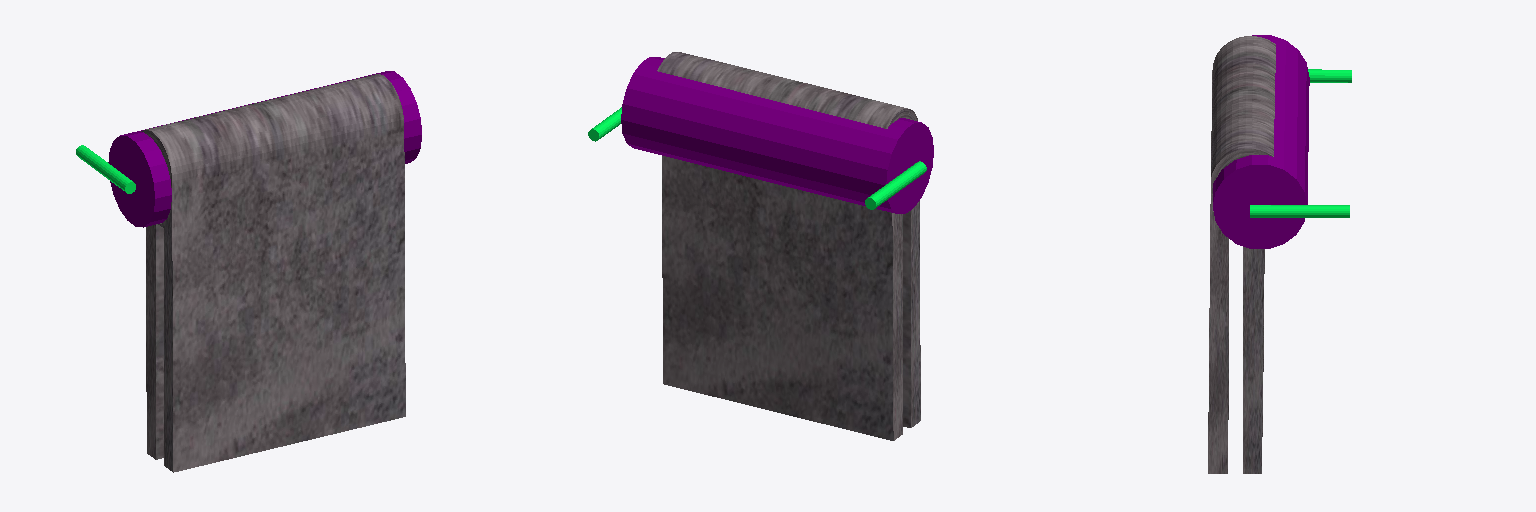
3 renders of one model, left to right at view 1: azimuth 30°, elevation 25°; view 2: azimuth 150°, elevation 25°; view 3: azimuth 270°, elevation 25°, orthographic.
Parts seen in each view (by area): view 1: Box001, Cylinder002, Cylinder003; view 2: Box001, Cylinder002, Cylinder003; view 3: Box001, Cylinder002, Cylinder004, Cylinder003.
Part boxes in pixels (left/top/right/bottom): Box001: left=141, top=74, right=405, bottom=472; Cylinder002: left=108, top=71, right=421, bottom=227; Cylinder003: left=76, top=145, right=135, bottom=193; Box001: left=657, top=52, right=920, bottom=440; Cylinder002: left=621, top=57, right=933, bottom=213; Cylinder003: left=865, top=161, right=926, bottom=209; Box001: left=1208, top=36, right=1275, bottom=473; Cylinder002: left=1213, top=35, right=1309, bottom=248; Cylinder004: left=1250, top=205, right=1349, bottom=217; Cylinder003: left=1308, top=69, right=1351, bottom=82.
Bounding box in the file's own units: 22.17 × 23.8 × 9.56.
Materials: 3 (3 with a texture image).